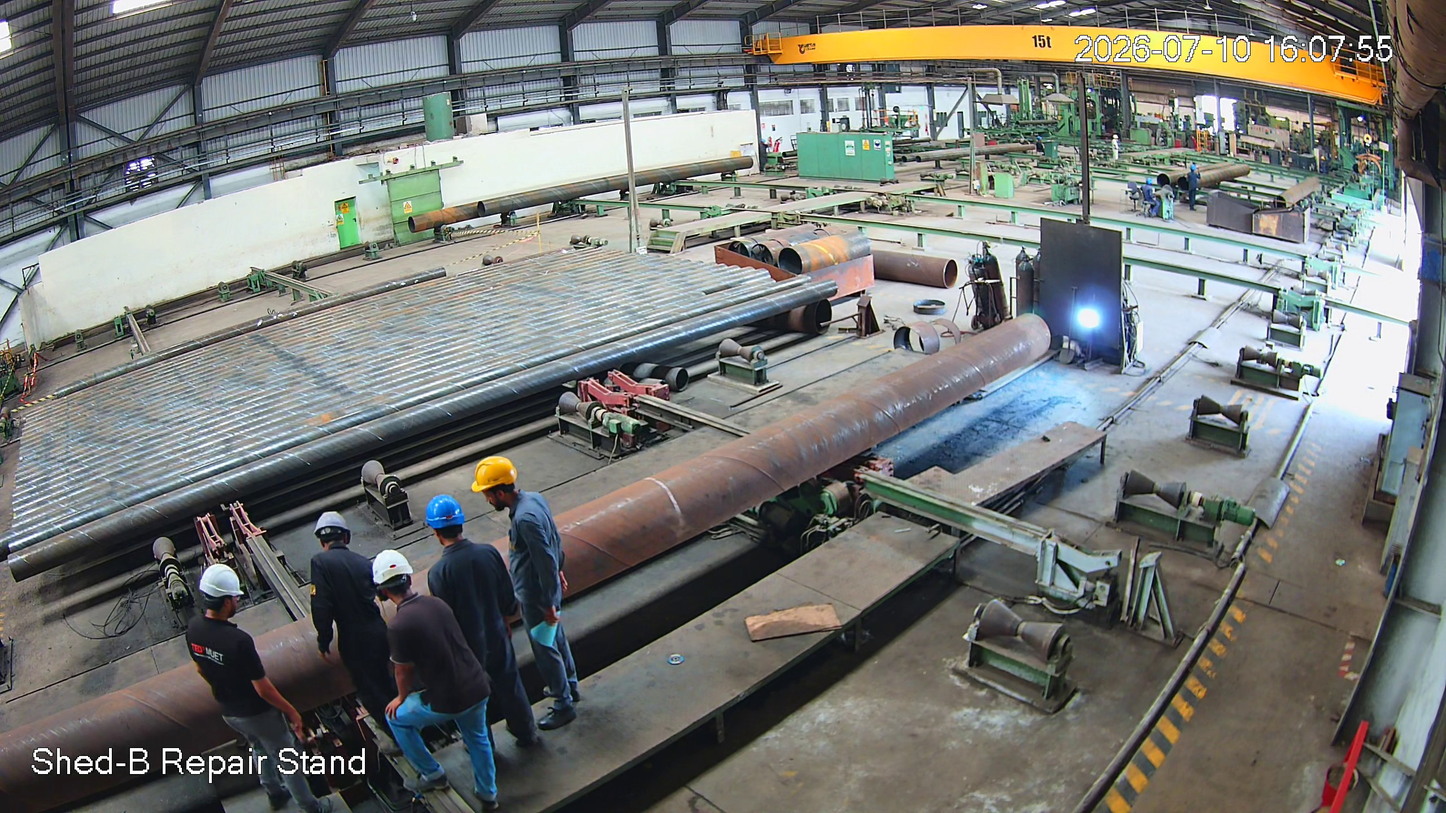Helmet: (192, 555, 256, 655), (412, 486, 490, 555), (460, 449, 541, 508), (302, 506, 369, 568), (371, 548, 420, 611)
Person: (478, 444, 607, 773), (174, 563, 315, 813), (420, 494, 544, 770), (369, 553, 500, 813), (301, 518, 413, 771)
